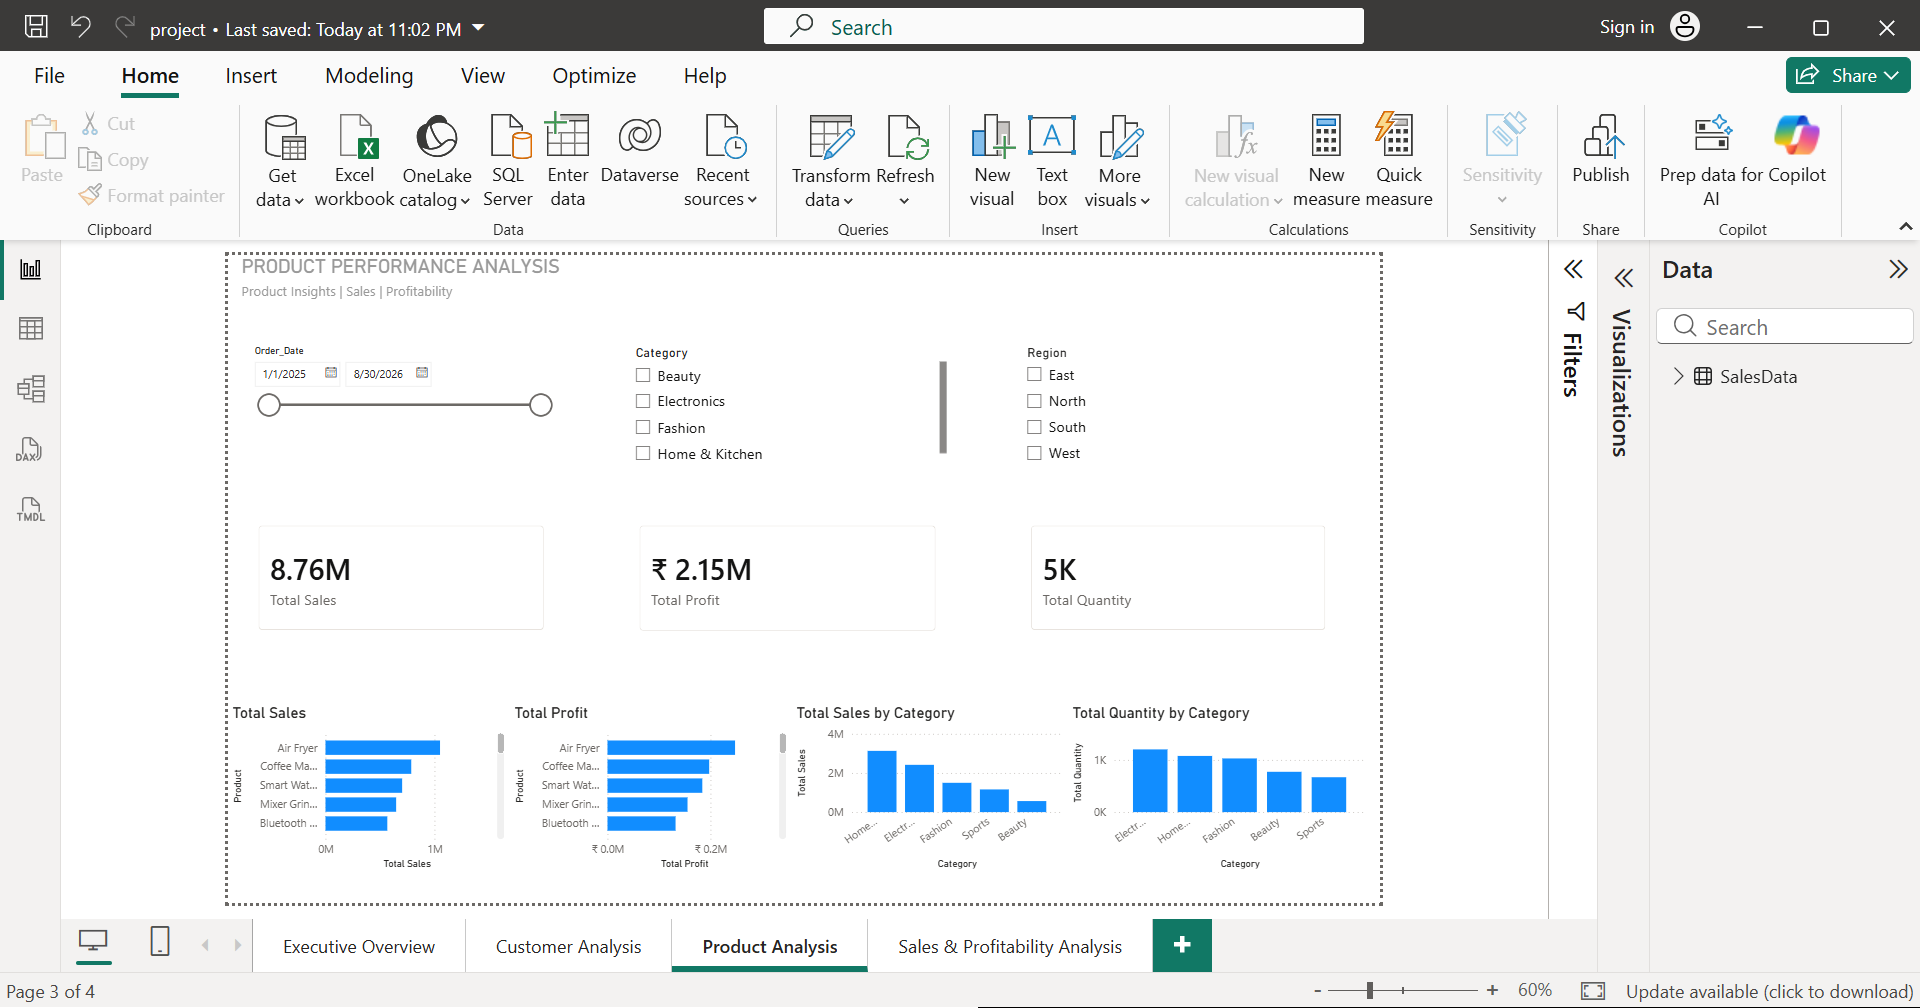

This screenshot's page, from the dashboard's own definition file:
{"tool":"powerbi","page":{"name":"Product Analysis","canvas":[1280,720],"ordinal":2},"visuals":[{"type":"textbox","title":"PRODUCT PERFORMANCE ANALYSIS","box":[10,0,368.3,50],"z":0},{"type":"cardVisual","fields":{"Data":["SalesData.Total Sales"]},"box":[16.7,283.3,351.7,150],"z":1000},{"type":"cardVisual","fields":{"Data":["SalesData.Total Profit"]},"box":[440,283.3,363.3,151.7],"z":2000},{"type":"cardVisual","fields":{"Data":["SalesData.Total Quantity"]},"box":[875,283.3,361.7,150],"z":3000},{"type":"clusteredBarChart","title":"Total Sales","fields":{"Category":["SalesData.Product"],"Y":["SalesData.Total Sales"]},"box":[0,498.3,311.7,188.3],"z":4000},{"type":"clusteredBarChart","title":"Total Profit ","fields":{"Category":["SalesData.Product"],"Y":["SalesData.Total Profit"]},"box":[313.3,498.3,311.7,188.3],"z":4001},{"type":"clusteredColumnChart","fields":{"Category":["SalesData.Category"],"Y":["SalesData.Total Sales"]},"box":[626.7,498.3,305,188.3],"z":4002},{"type":"clusteredColumnChart","fields":{"Category":["SalesData.Category"],"Y":["SalesData.Total Quantity"]},"box":[933.3,498.3,335,188.3],"z":4003},{"type":"slicer","fields":{"Values":["SalesData.Order_Date"]},"box":[16.7,95,351.7,148.3],"z":4004},{"type":"slicer","fields":{"Values":["SalesData.Category"]},"box":[440,95,363.3,150],"z":4005},{"type":"slicer","fields":{"Values":["SalesData.Region"]},"box":[875,95,361.7,150],"z":4006}]}

Visuals, with their boxes on the page's 1280x720 design canvas (x1, y1, x2, y2). These are canvas units, not pixel positions in the 1920x1008 screenshot, which may show the page scaled, cropped or inside an application window:
"PRODUCT PERFORMANCE ANALYSIS" textbox: Rect(10, 0, 378, 50)
cardVisual - SalesData.Total Sales: Rect(17, 283, 368, 433)
cardVisual - SalesData.Total Profit: Rect(440, 283, 803, 435)
cardVisual - SalesData.Total Quantity: Rect(875, 283, 1237, 433)
"Total Sales" clusteredBarChart: Rect(0, 498, 312, 687)
"Total Profit " clusteredBarChart: Rect(313, 498, 625, 687)
clusteredColumnChart - SalesData.Category x SalesData.Total Sales: Rect(627, 498, 932, 687)
clusteredColumnChart - SalesData.Category x SalesData.Total Quantity: Rect(933, 498, 1268, 687)
slicer - SalesData.Order_Date: Rect(17, 95, 368, 243)
slicer - SalesData.Category: Rect(440, 95, 803, 245)
slicer - SalesData.Region: Rect(875, 95, 1237, 245)
